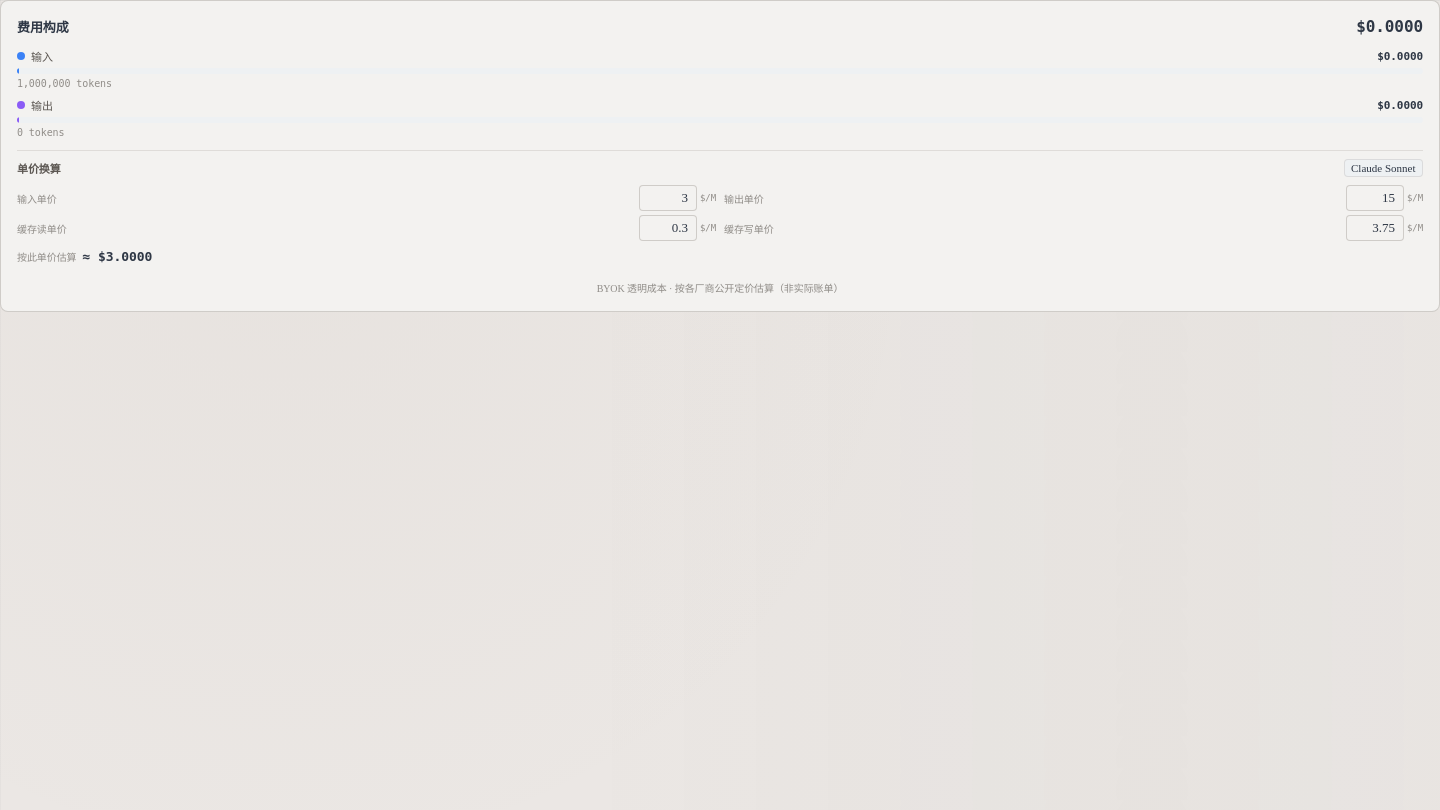
Scenario: CostBreakdownCard — transparent breakdown › flips to 自定义 when a price is edited and uses the new value
Expected: the text "≈ $3.0000" is shown, [82,249,152,264]
Edit the input-unit-price to $10.
Replace the text in the field named "输入单价（美元/百万 tokens）" with "10". click: (668, 198)
box: [639,185,697,211]
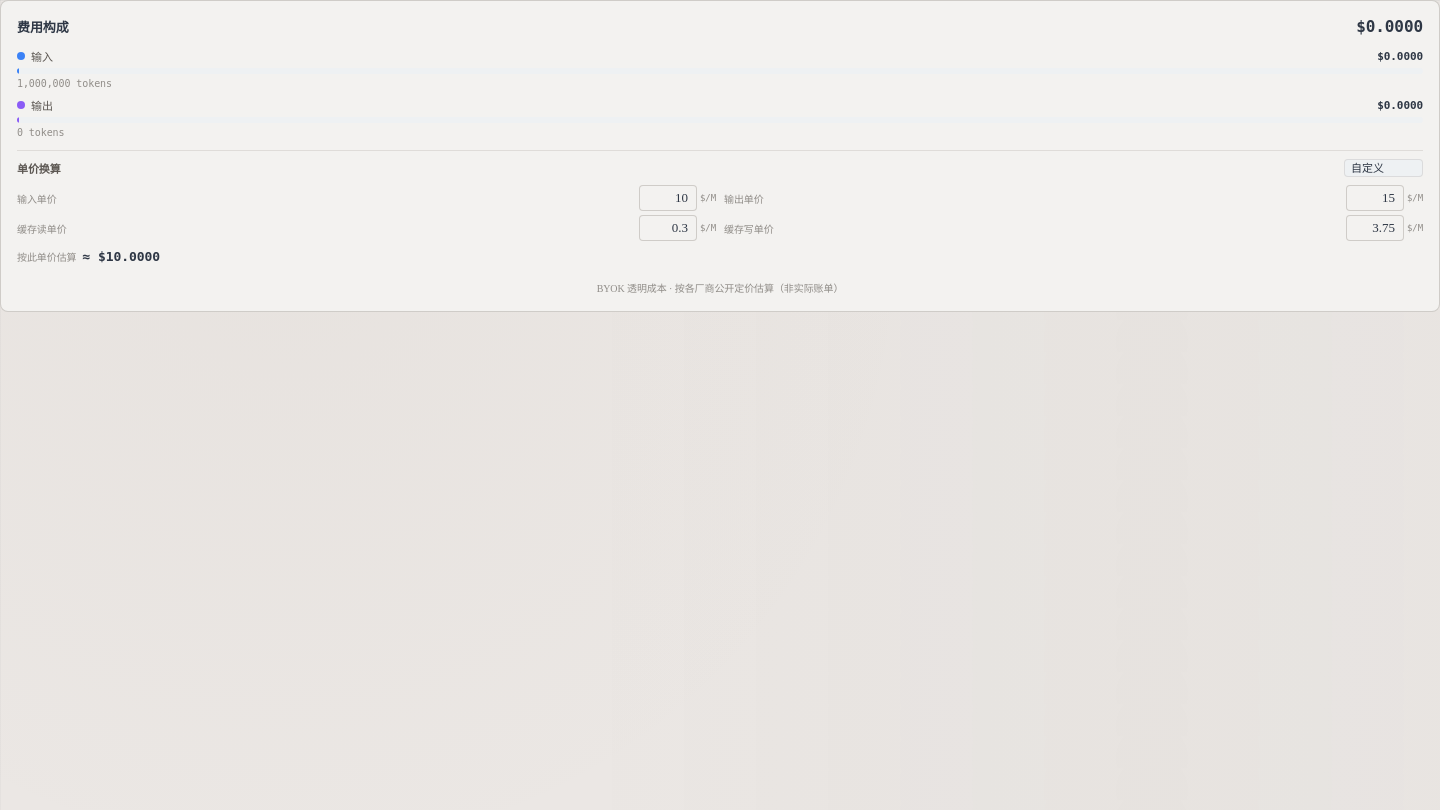
Now the dropdown named "模型单价预设" shows "自定义", box [1344,159,1423,177]
Now the text "≈ $10.0000" is shown, box [82,249,160,264]
